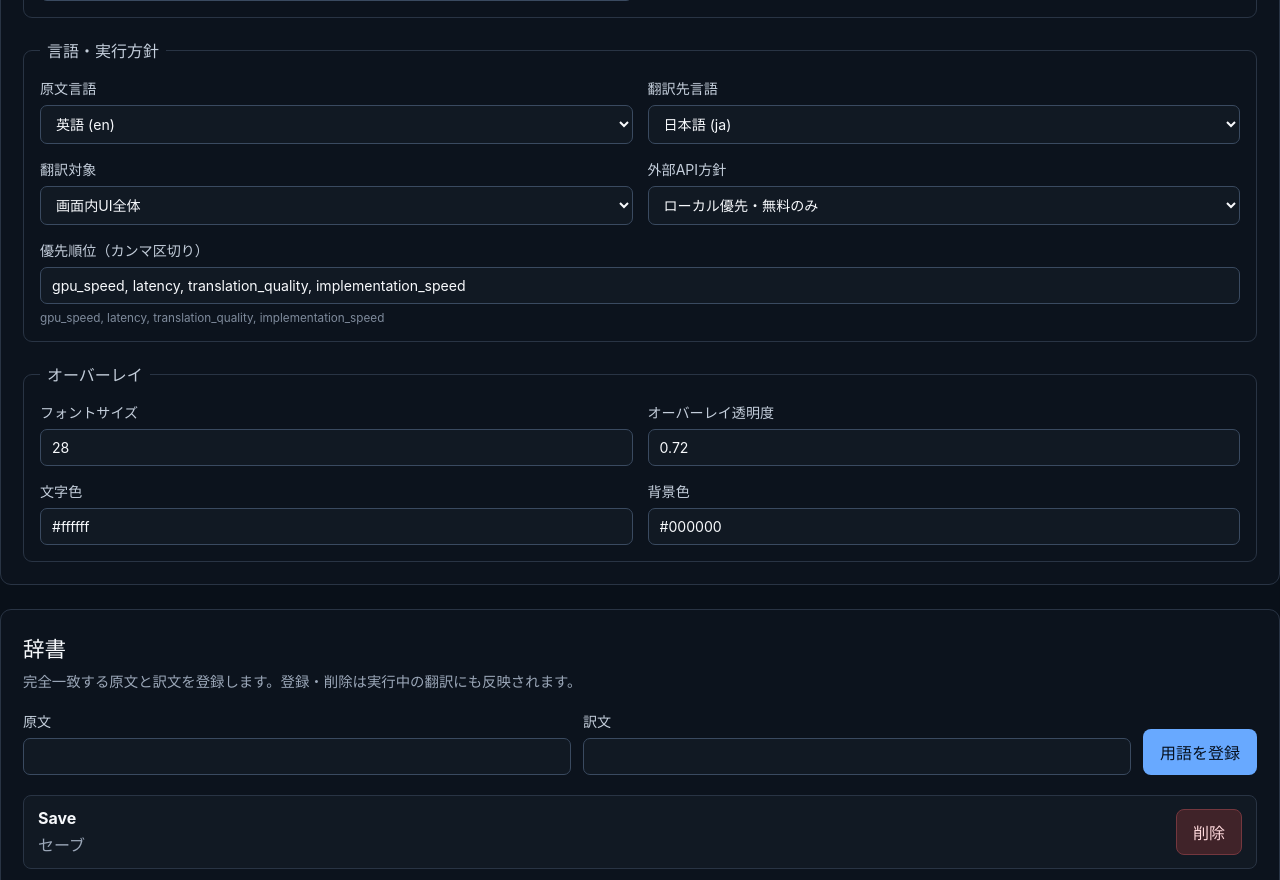
Scenario: SettingsPanel › 削除成功後の一覧再取得失敗を区別し、暫定一覧から再試行できる
(page scrolled)
Click the button with aria-label "Save を削除" at x=1209, y=832, box x1=1176 y1=809 x2=1242 y2=855
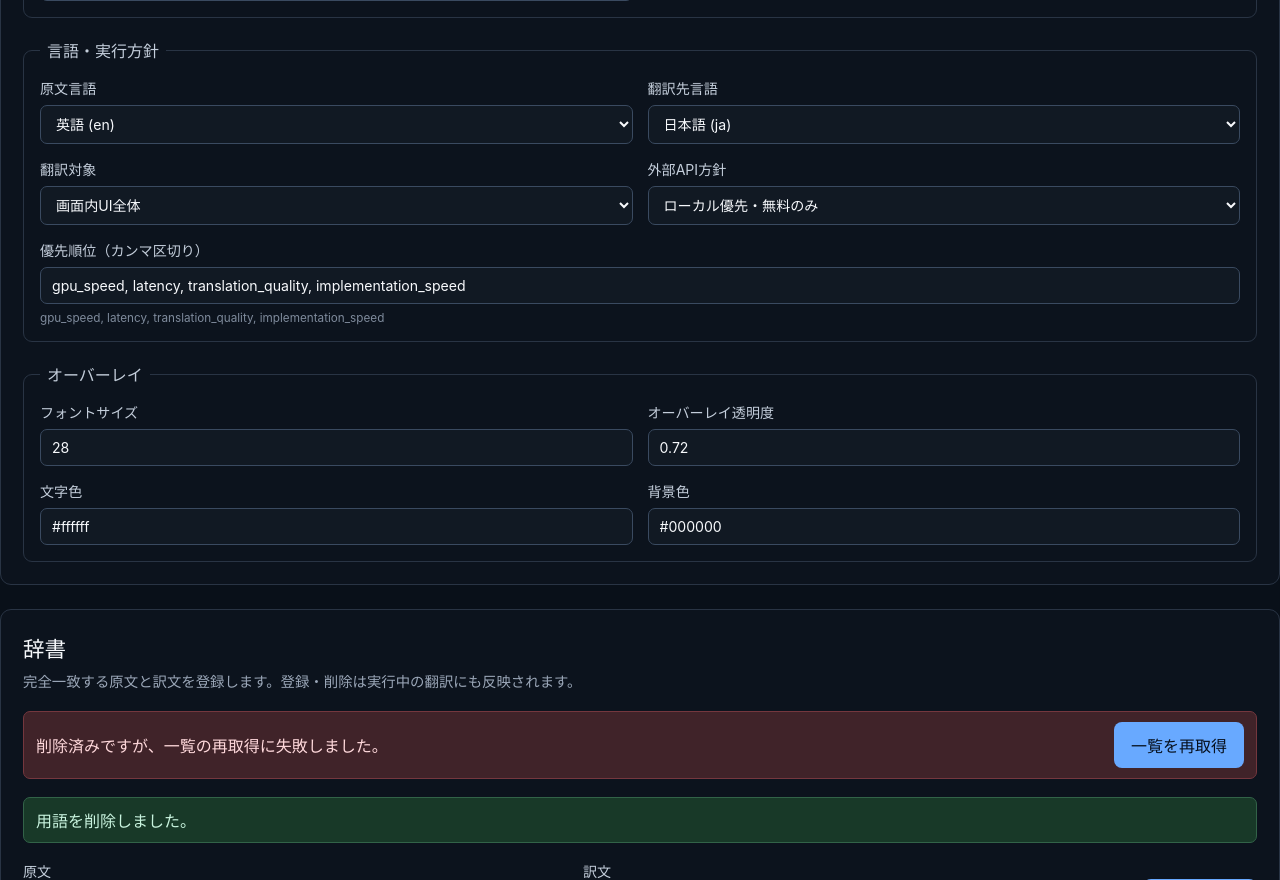
Check: the message "削除済みですが、一覧の再取得に失敗しました。 一覧を再取得" is shown, box x1=23 y1=711 x2=1257 y2=779
Check: the text "Save" is gone
Click the button "一覧を再取得" at x=1179, y=745, box x1=1114 y1=722 x2=1244 y2=768
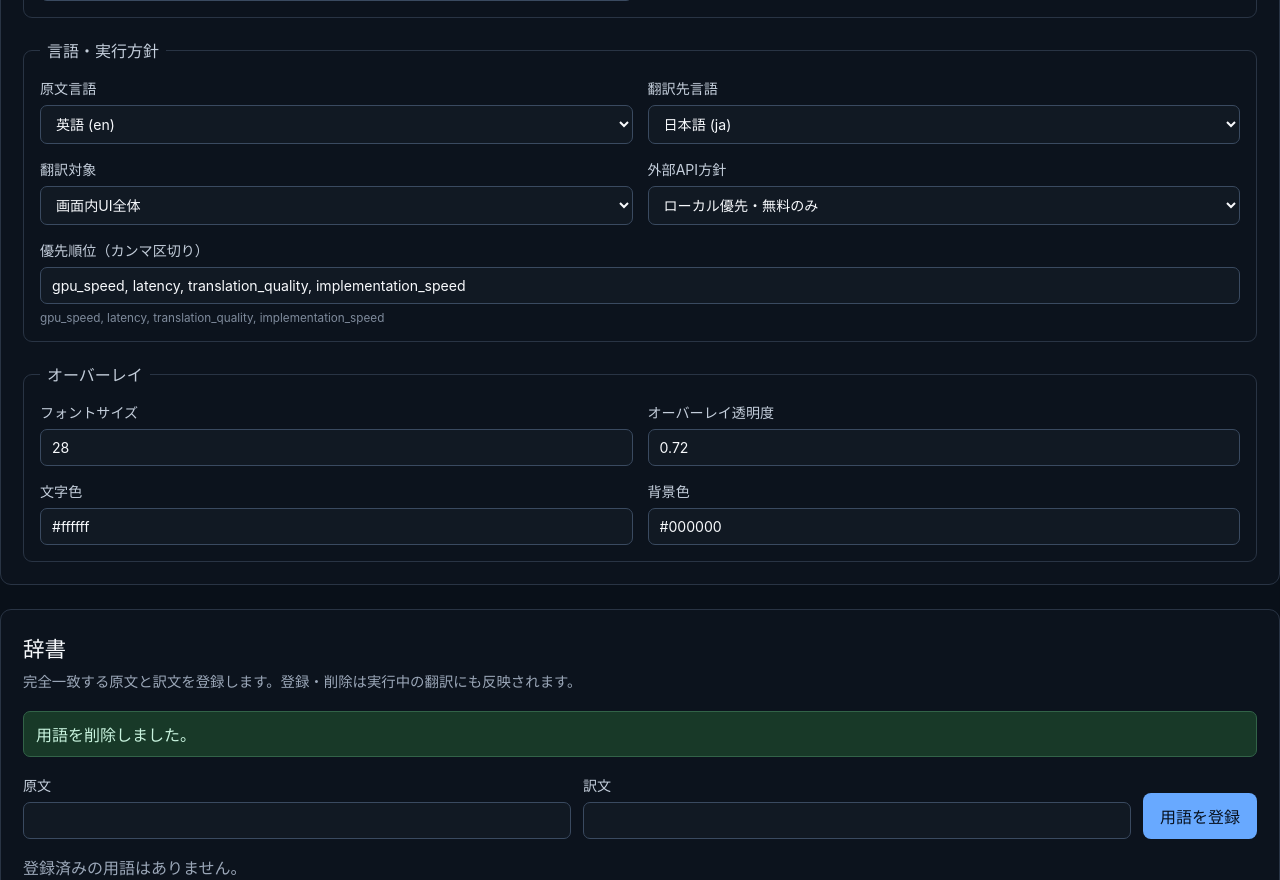
Check: the message "削除済みですが、一覧の再取得に失敗しました。 一覧を再取得" is gone
